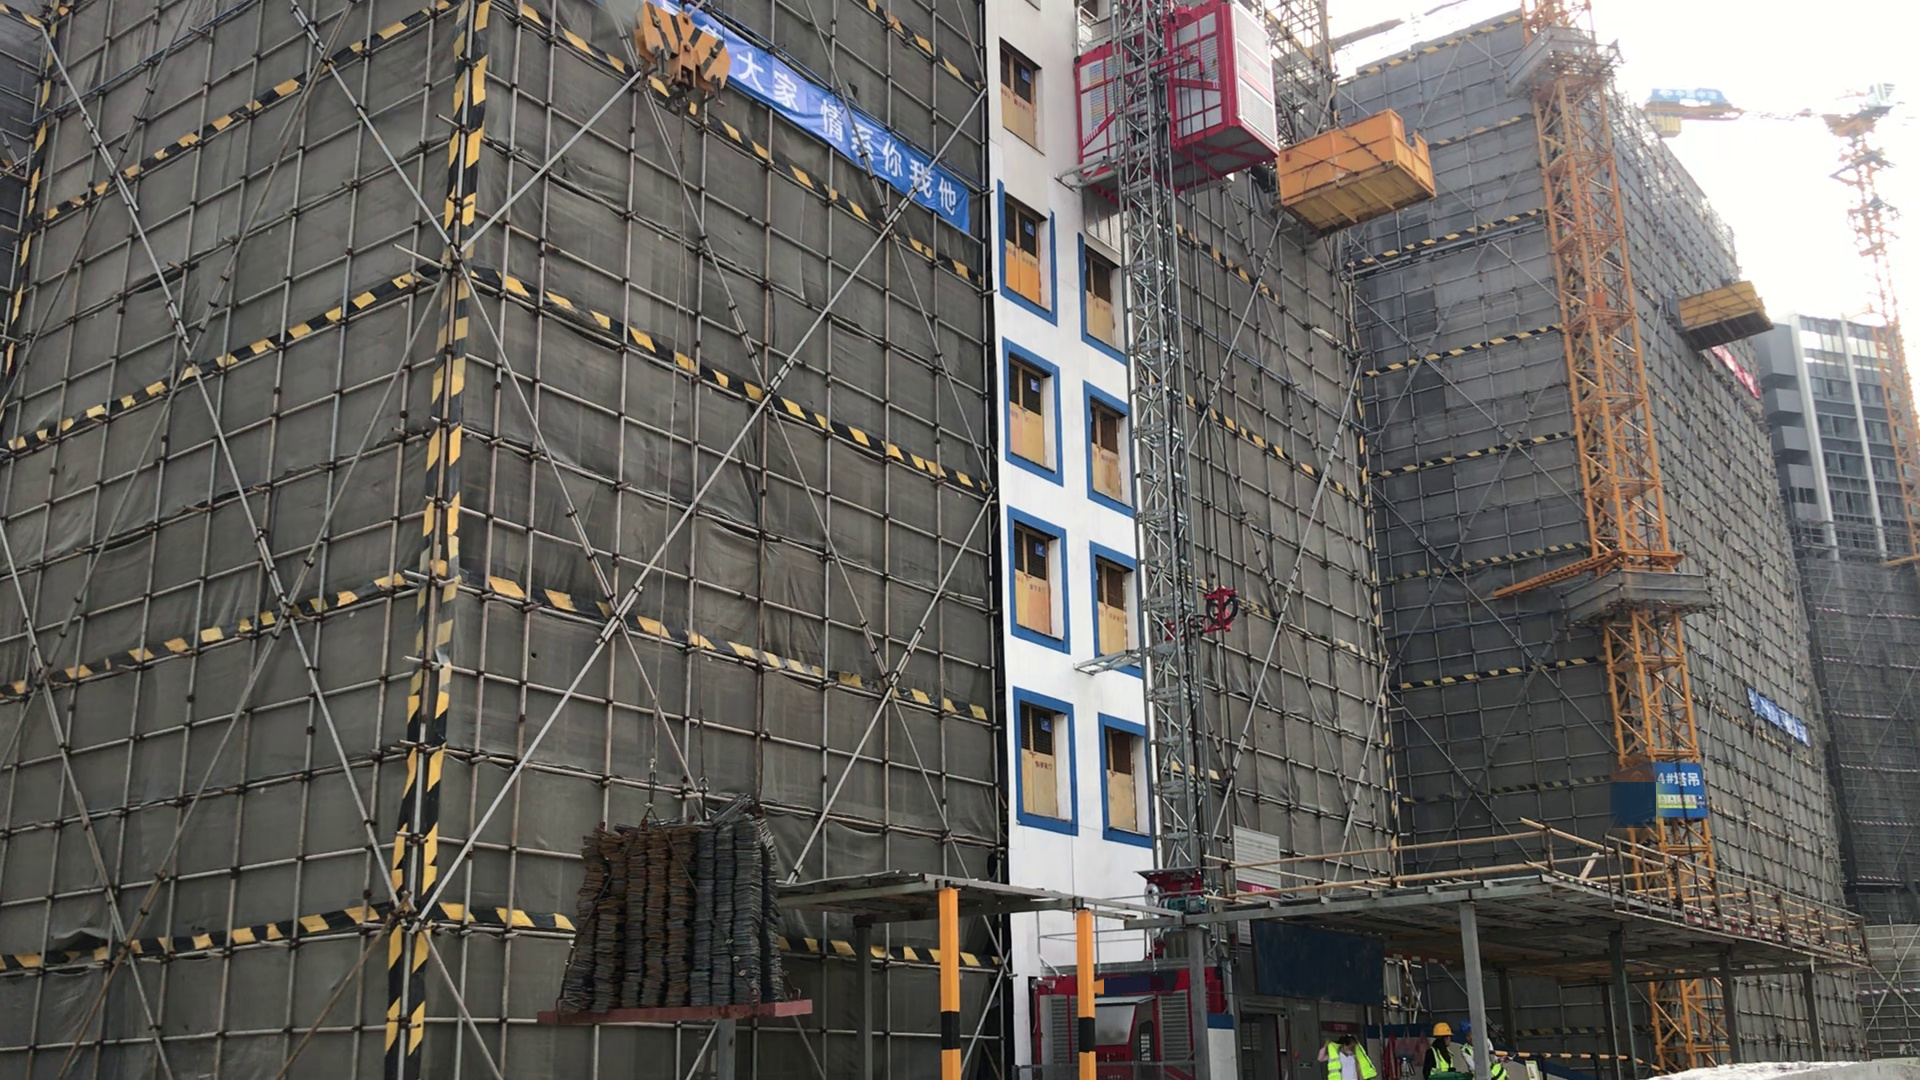helmet: (1432, 1024, 1451, 1037)
hook: (631, 4, 737, 116)
person: (1319, 1026, 1370, 1080), (1463, 1024, 1505, 1080), (1422, 1020, 1454, 1080)
slogan: (724, 30, 970, 227), (1746, 689, 1809, 742), (1659, 792, 1698, 809)
vest: (1322, 1041, 1372, 1080), (1430, 1043, 1453, 1076)
